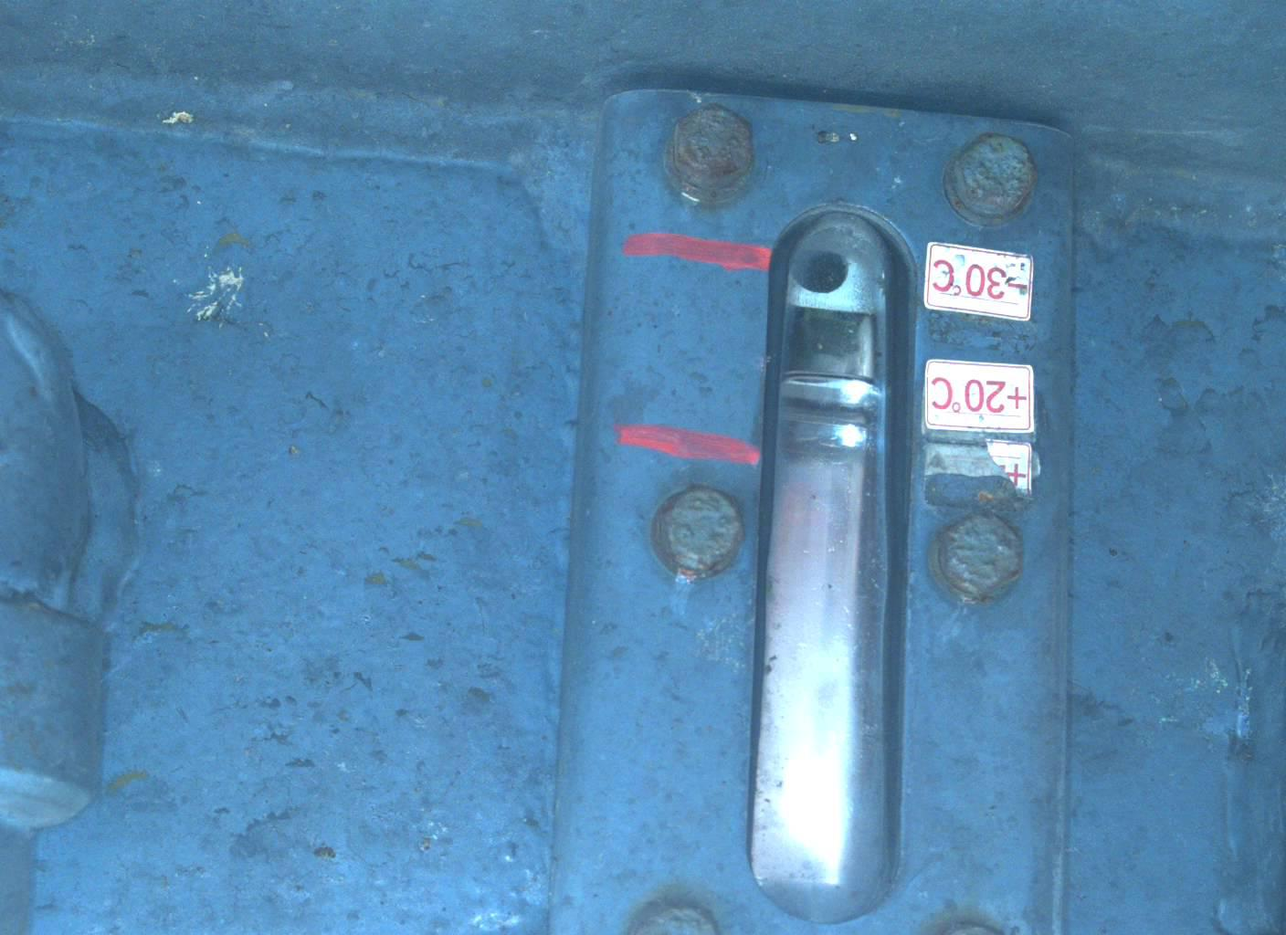oil_level_gauge: (604, 101, 1038, 930)
